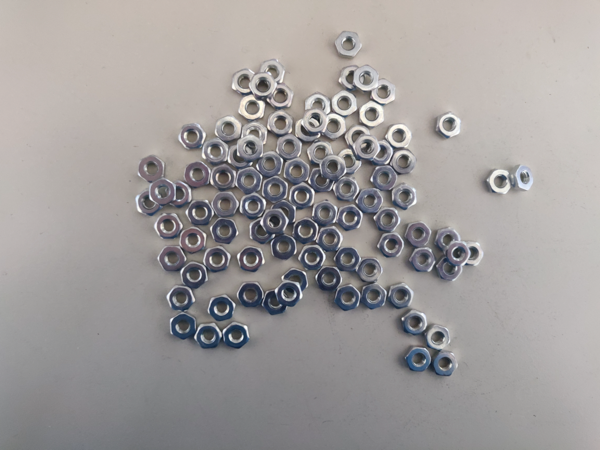nut: (138, 155, 166, 183), (249, 73, 278, 100), (181, 261, 208, 289), (204, 246, 232, 273), (236, 167, 263, 195), (305, 92, 333, 119), (167, 286, 196, 312), (158, 246, 187, 272), (155, 214, 184, 240), (277, 134, 303, 163), (320, 154, 346, 183), (178, 123, 208, 148), (209, 294, 236, 321), (238, 246, 265, 273), (150, 178, 177, 205), (335, 31, 362, 58), (241, 121, 268, 148), (232, 68, 259, 95), (267, 83, 294, 110), (435, 112, 462, 139), (402, 309, 429, 336), (276, 281, 303, 308), (257, 151, 284, 178), (170, 312, 196, 340), (223, 323, 251, 349), (237, 281, 265, 307), (181, 227, 207, 255), (211, 218, 239, 244), (186, 199, 214, 225), (290, 182, 316, 210), (313, 200, 339, 228), (356, 188, 384, 214), (211, 191, 240, 216), (261, 209, 290, 234), (339, 65, 364, 94), (136, 190, 163, 216), (210, 165, 237, 191), (388, 283, 415, 309), (362, 283, 388, 310), (335, 284, 361, 311), (435, 227, 462, 253), (405, 221, 432, 247), (294, 218, 320, 245), (285, 158, 311, 185), (337, 205, 364, 231), (308, 140, 335, 166), (202, 138, 230, 163), (215, 116, 243, 141), (423, 325, 451, 350), (333, 177, 361, 202), (354, 65, 379, 93), (241, 193, 267, 219), (405, 347, 431, 373), (391, 149, 417, 175), (359, 101, 385, 127), (184, 162, 211, 187), (269, 109, 294, 136), (436, 257, 463, 282), (272, 234, 297, 261), (239, 134, 263, 162), (166, 181, 191, 207), (487, 169, 512, 195), (410, 248, 436, 273), (283, 268, 309, 293), (309, 168, 335, 193), (333, 90, 358, 116), (239, 95, 266, 119), (260, 60, 287, 84), (510, 165, 534, 192), (378, 233, 405, 257), (374, 208, 401, 232), (316, 267, 343, 291), (264, 176, 288, 203), (322, 112, 346, 139), (372, 78, 396, 105), (299, 246, 327, 269), (334, 248, 362, 271), (434, 352, 459, 377), (196, 324, 222, 348), (357, 258, 383, 282), (445, 242, 471, 266), (393, 184, 417, 210), (263, 291, 289, 315), (250, 221, 276, 245), (272, 200, 296, 226), (372, 166, 398, 190), (387, 124, 413, 148), (355, 135, 381, 159), (459, 243, 486, 266), (228, 144, 253, 168), (303, 109, 329, 132), (346, 125, 372, 148), (320, 227, 343, 252), (297, 119, 321, 142), (370, 142, 394, 164), (341, 149, 362, 174)
